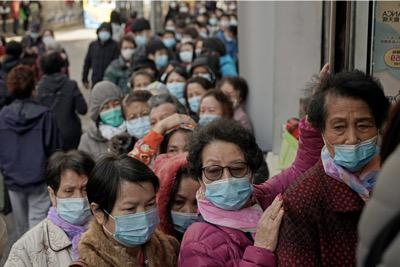mask_weared_incorrect: (323, 114, 377, 172)
with_mask: (200, 157, 253, 211), (107, 192, 157, 247), (54, 182, 91, 224), (170, 191, 199, 234), (124, 108, 151, 140), (97, 99, 125, 128), (163, 76, 186, 99), (186, 90, 205, 113), (153, 50, 168, 67), (119, 45, 134, 61), (178, 47, 193, 63), (133, 33, 147, 45), (161, 36, 173, 48), (96, 31, 110, 41), (28, 32, 38, 40)
